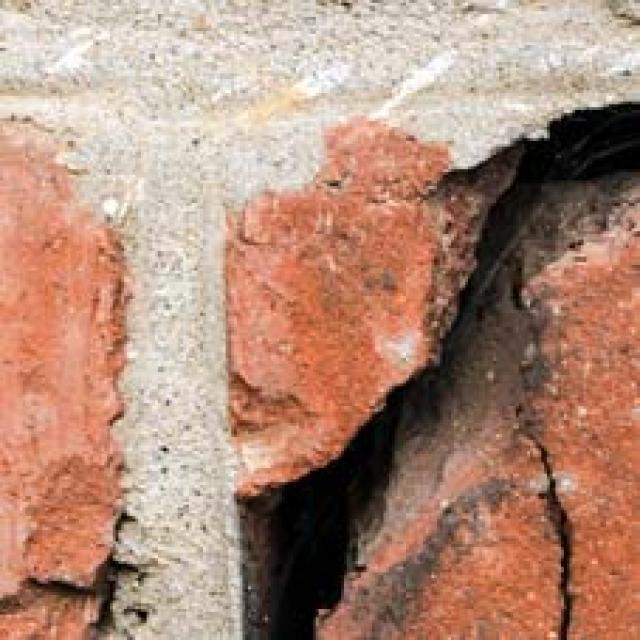Crack: (192, 6, 640, 640)
